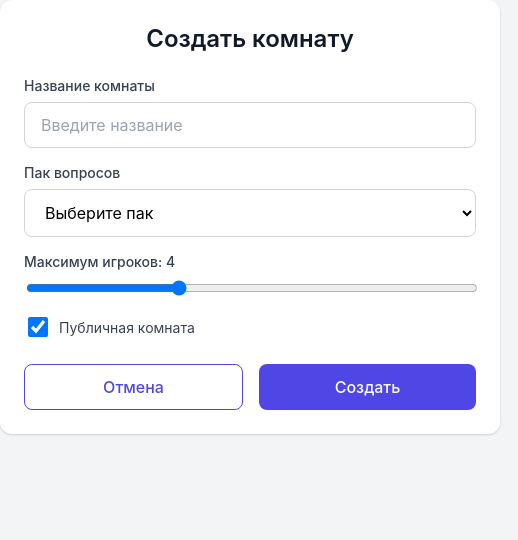
Test: CreateRoomForm › показывает поле пароля при отключении публичности
The width and height of the screenshot is (518, 540).
Note: Снимаем галочку публичности
What coordinates should you click on to do the following:
click the checkbox labelled "Публичная комната"
I would click on:
 (38, 327)
Its box is [28,317,48,337].
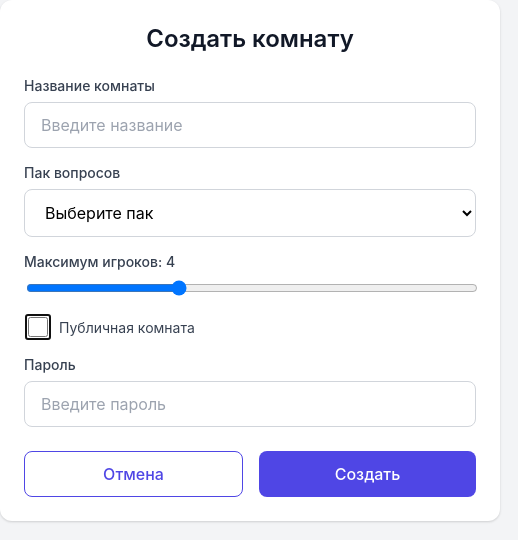
expect the password field with placeholder "Введите пароль" is shown: met, box [24,381,476,427]
